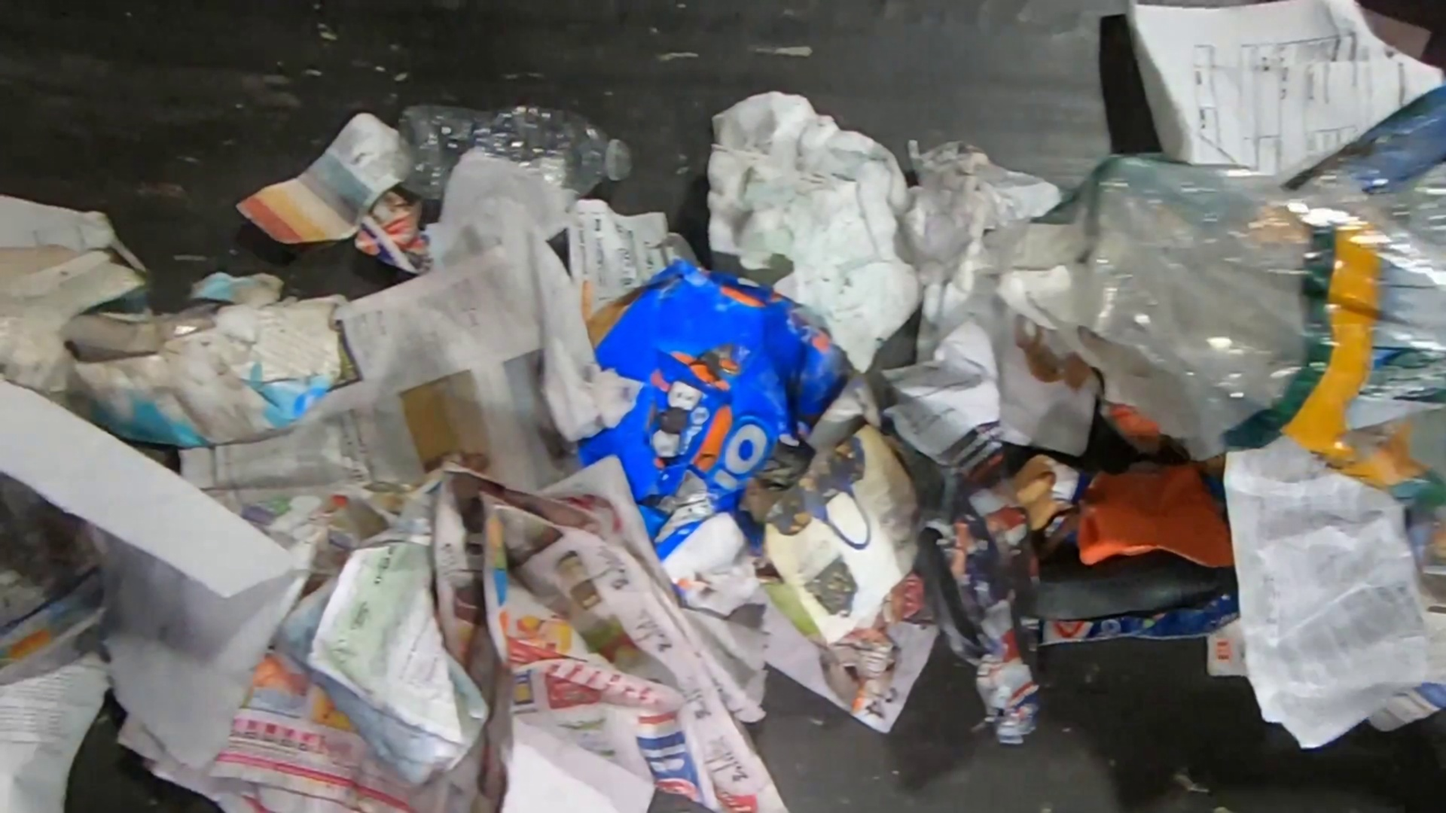cardboard: (577, 255, 859, 565), (65, 270, 347, 448)
plastic: (1058, 86, 1446, 510), (389, 104, 635, 202)
